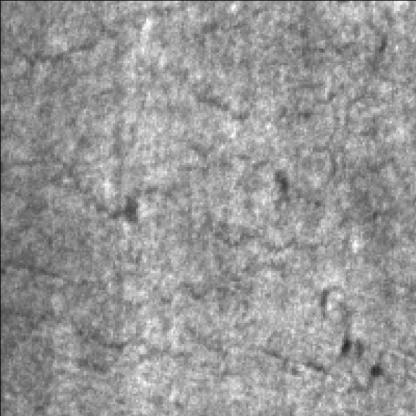crazing: (176, 23, 406, 264), (4, 268, 262, 381)
